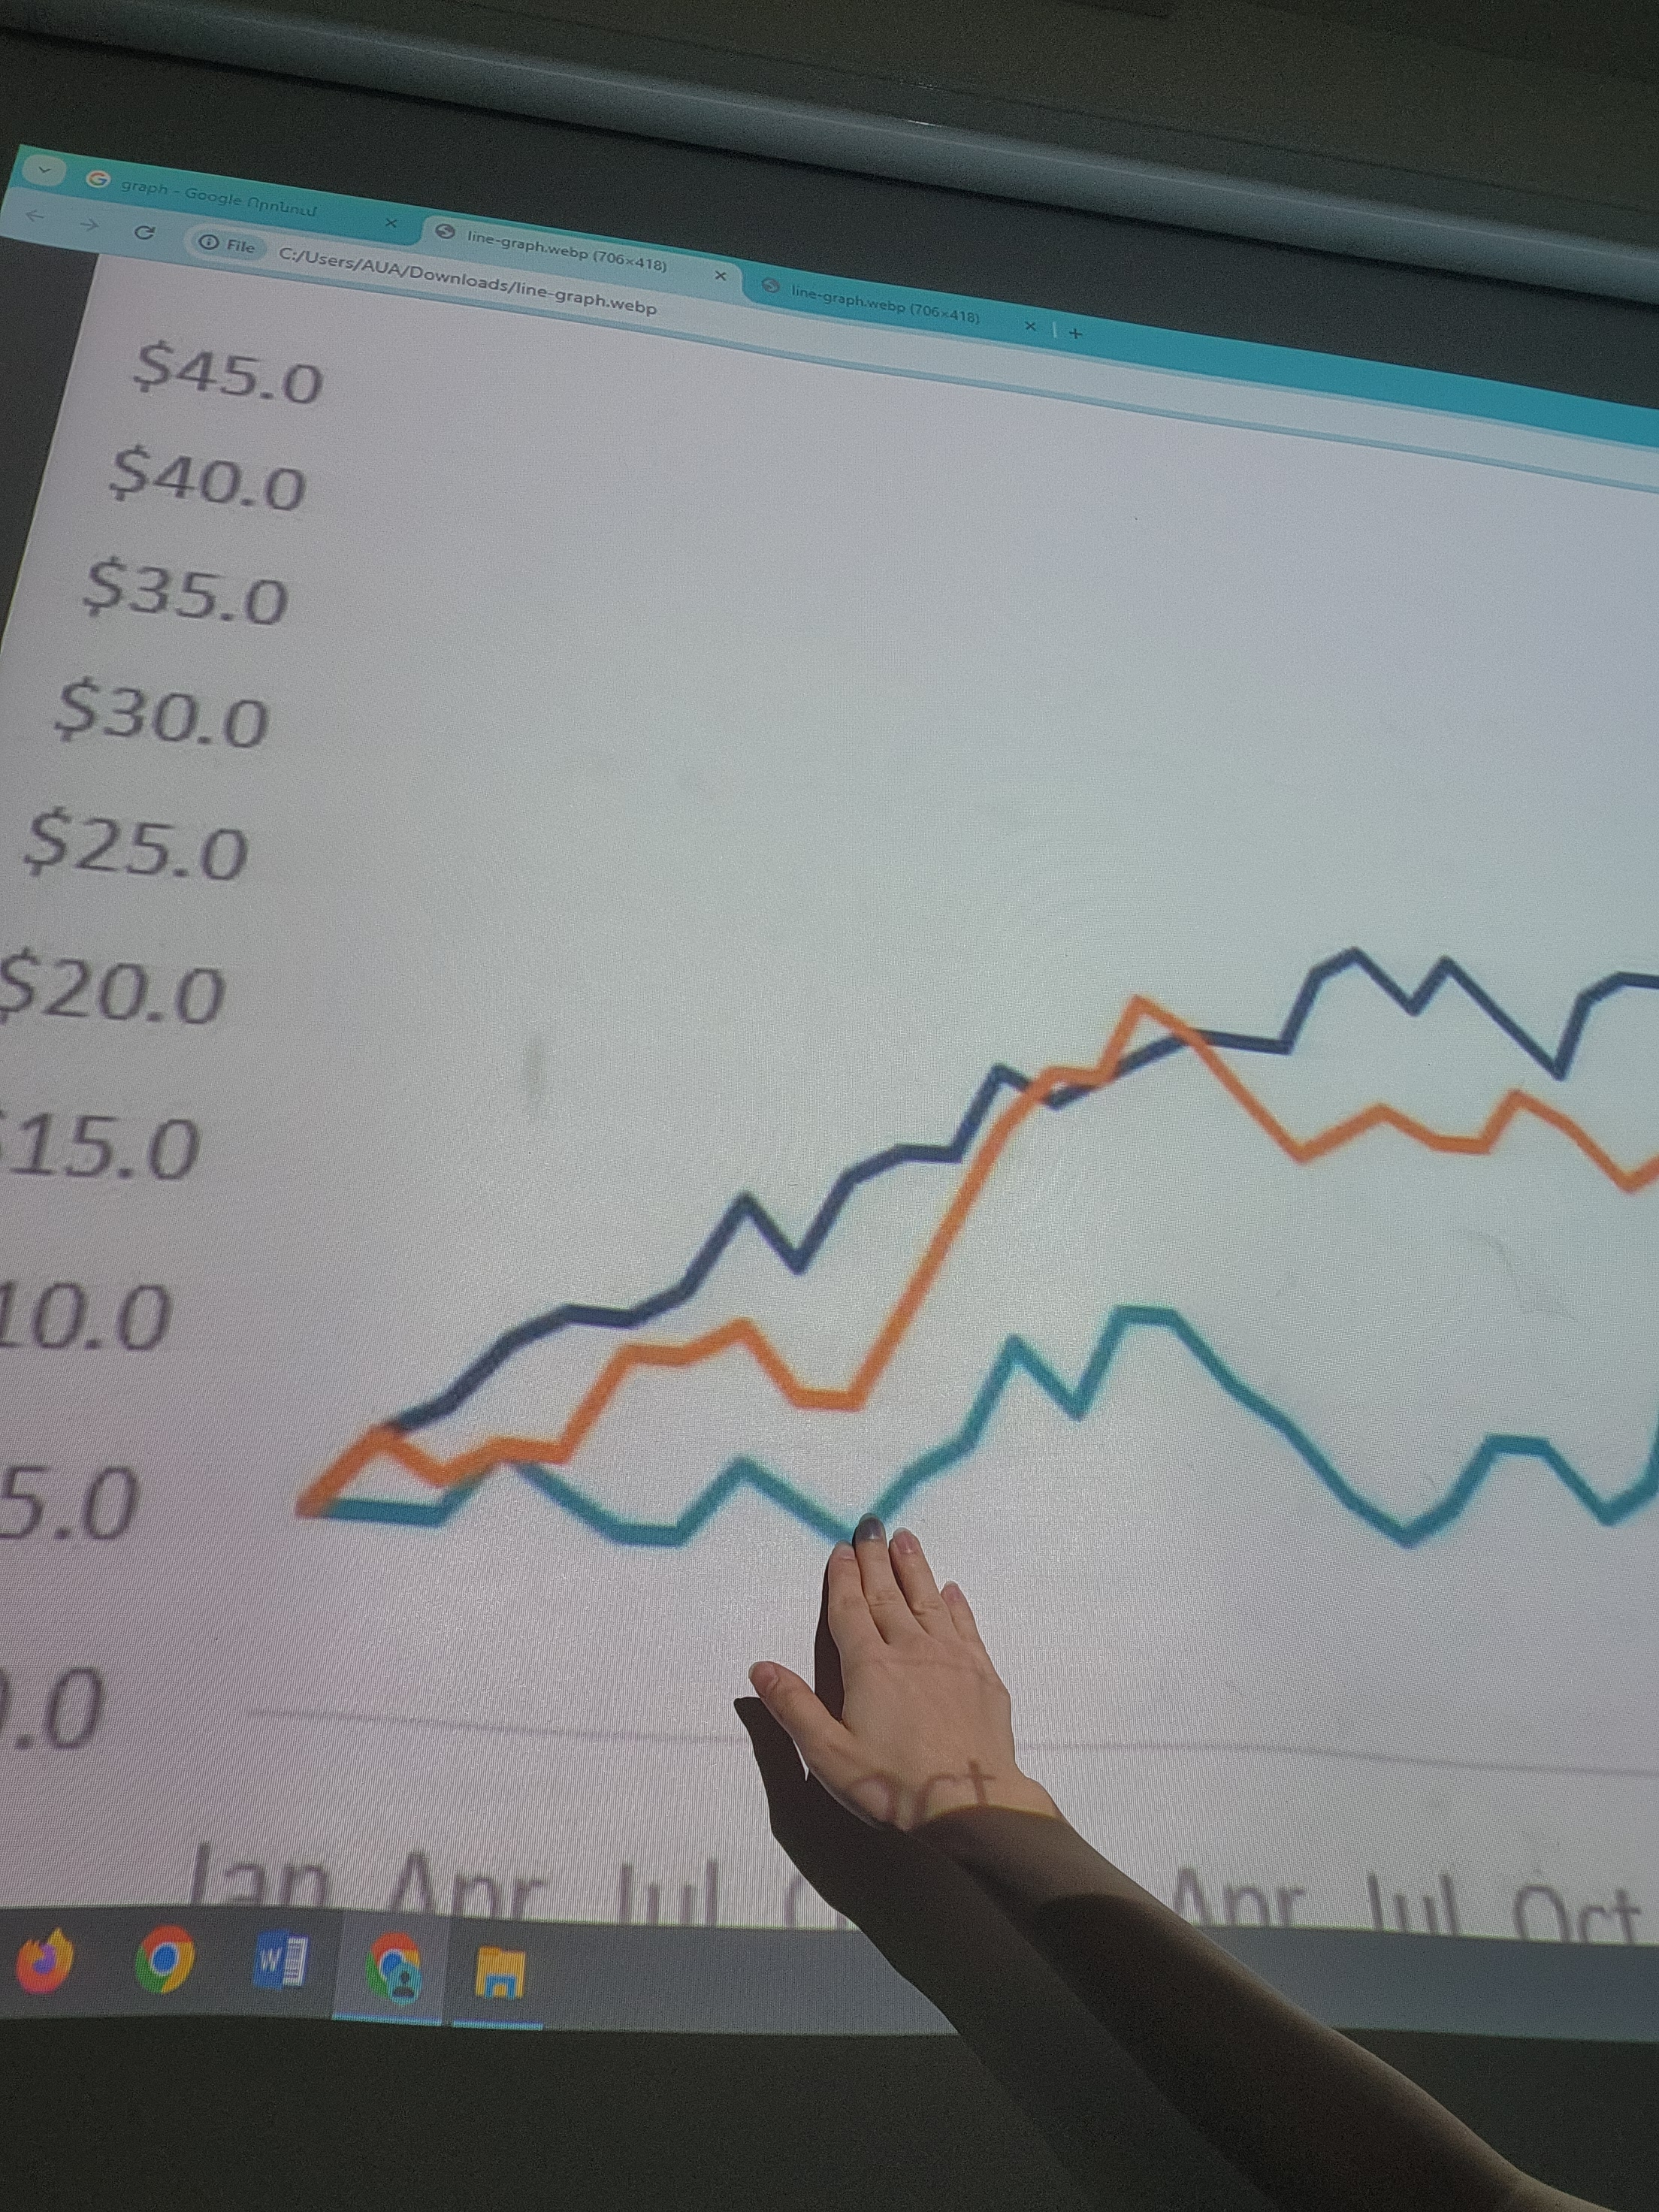pointing_gesture: (741, 1519, 1053, 1831)
